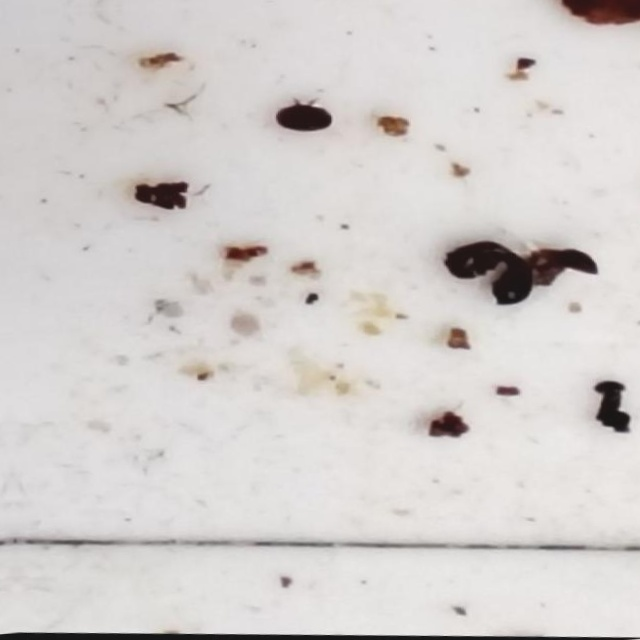varroa: (434, 240, 504, 281), (488, 259, 534, 316), (271, 104, 335, 141)
